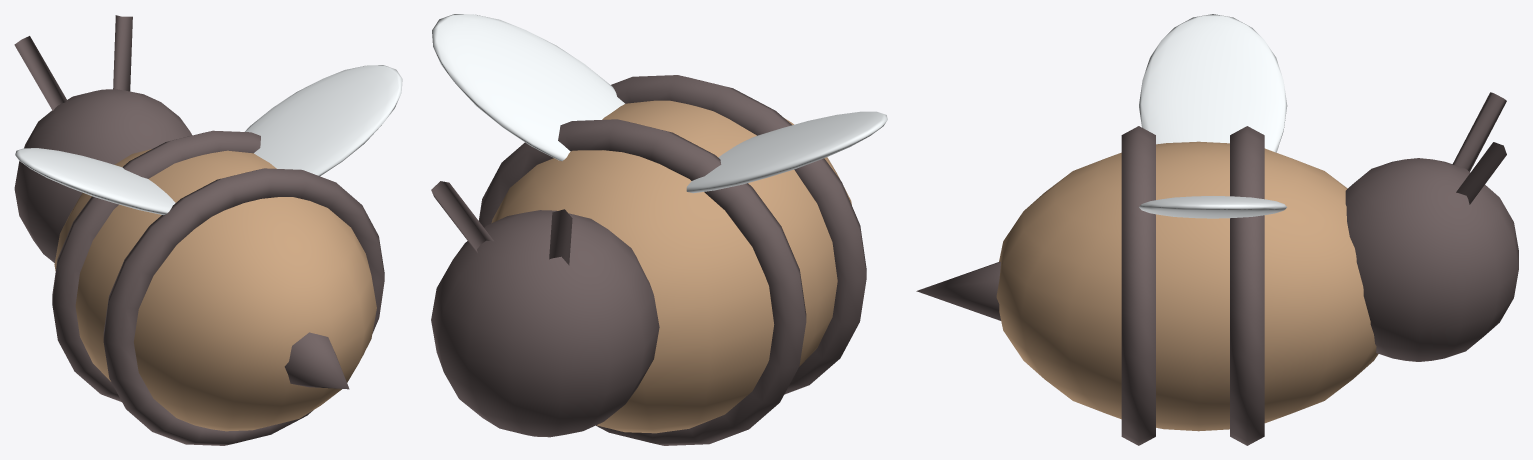
File: Bee.glb
The picture shows the model from 3 angles, left to right: view 1: azimuth 30°, elevation 25°; view 2: azimuth 150°, elevation 25°; view 3: azimuth 270°, elevation 25°; orthographic projection. The views are drawn at different scales.
Parts seen in each view (by area): view 1: Body, Stripes, Wings; view 2: Stripes, Body, Wings; view 3: Body, Stripes, Wings.
Part boxes in pixels (bbox=[...]): Body: bbox=[54, 149, 376, 431]; Stripes: bbox=[14, 15, 384, 445]; Wings: bbox=[15, 65, 402, 214]; Stripes: bbox=[431, 75, 866, 445]; Body: bbox=[491, 100, 851, 433]; Wings: bbox=[432, 14, 887, 193]; Body: bbox=[996, 141, 1378, 431]; Stripes: bbox=[916, 92, 1518, 445]; Wings: bbox=[1139, 14, 1287, 218].
Bounding box in the file's own units: 1.6 × 1.22 × 2.11.
